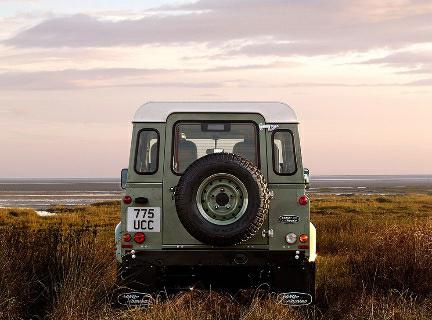路虎-卫士: (112, 95, 325, 293)
